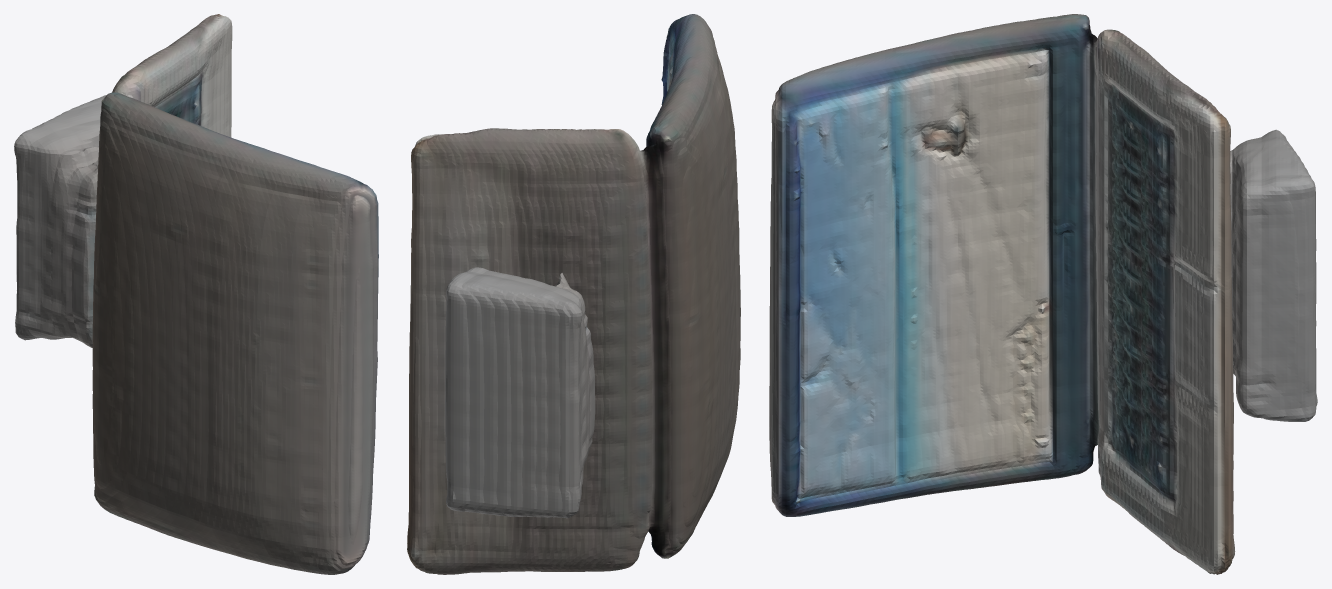
3 views of the same model, side by side, from view 1: azimuth 30°, elevation 25°; view 2: azimuth 150°, elevation 25°; view 3: azimuth 270°, elevation 25° (orthographic). The views are drawn at different scales.
Visible parts, largest first — view 1: world; view 2: world; view 3: world.
Boxes of the visible parts, bbox=[...] form: world: bbox=[14, 14, 378, 574]; world: bbox=[407, 14, 740, 574]; world: bbox=[769, 14, 1317, 574].
Bounding box in the file's own units: 0.4924 × 0.9779 × 1.02.
